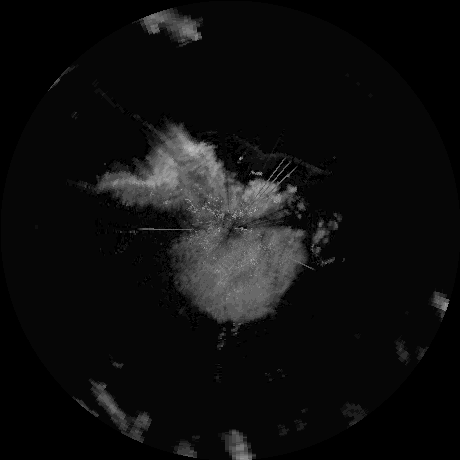frontgust: (232, 133, 329, 177)
